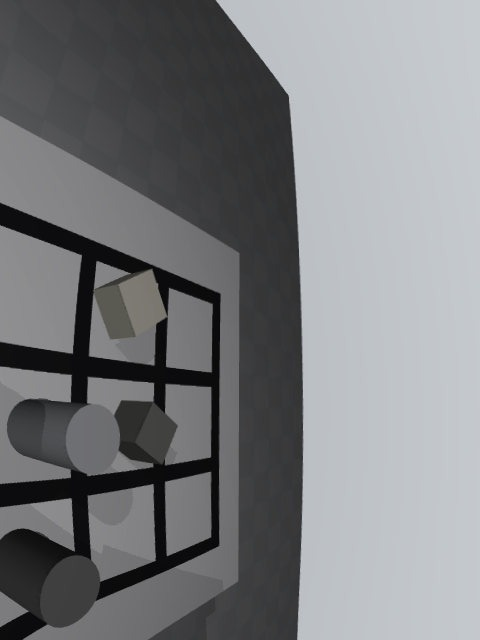can: (7, 399, 120, 475)
cube: (114, 400, 178, 465)
cylinder: (0, 528, 100, 628)
foam: (93, 269, 167, 340)
